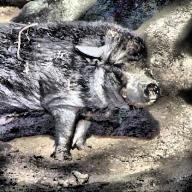boar: (3, 13, 158, 146)
